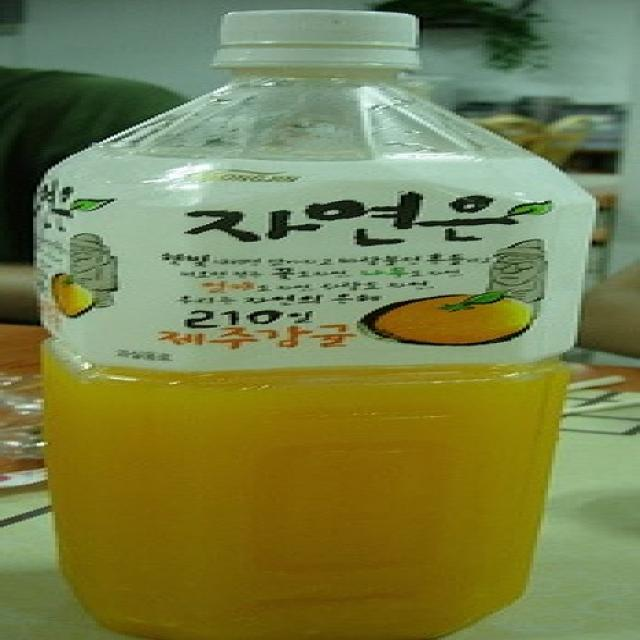bottle: (19, 6, 575, 637)
